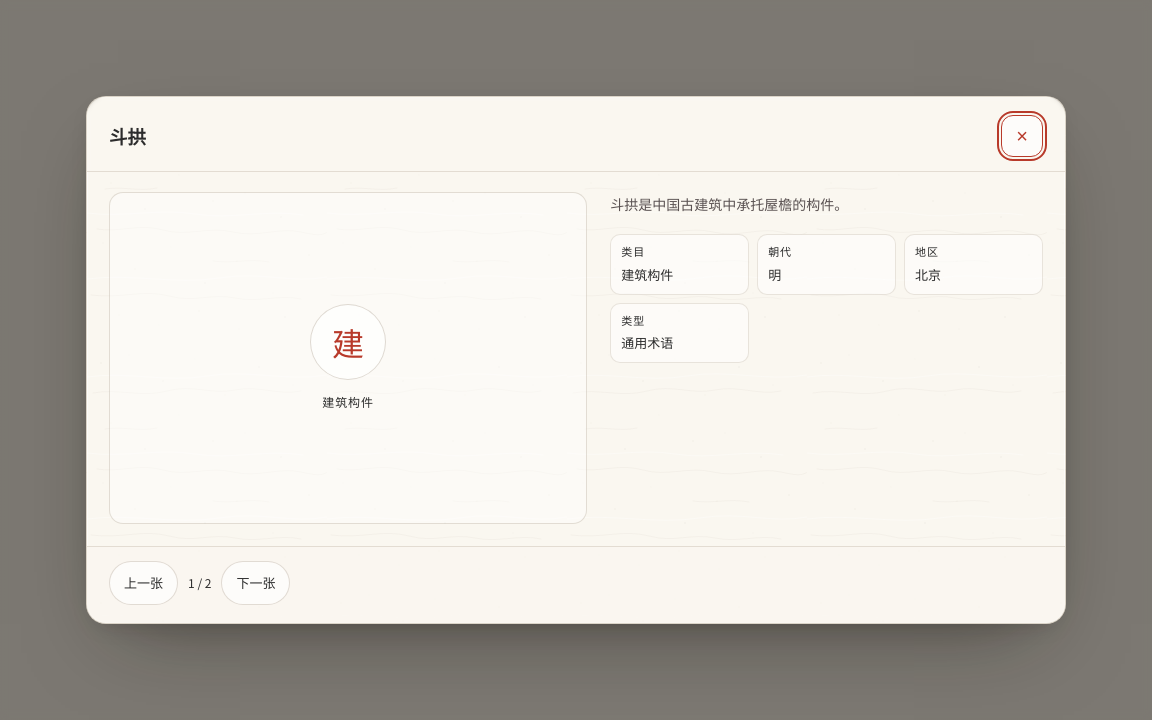
it: CardPreviewOverlay（T-DECK-05/06） › T-DECK-07 触屏左滑切换到下一张
The width and height of the screenshot is (1152, 720).
Press the mouse on the element with class "enc-preview-body": [576, 359] box [87, 172, 1065, 546]
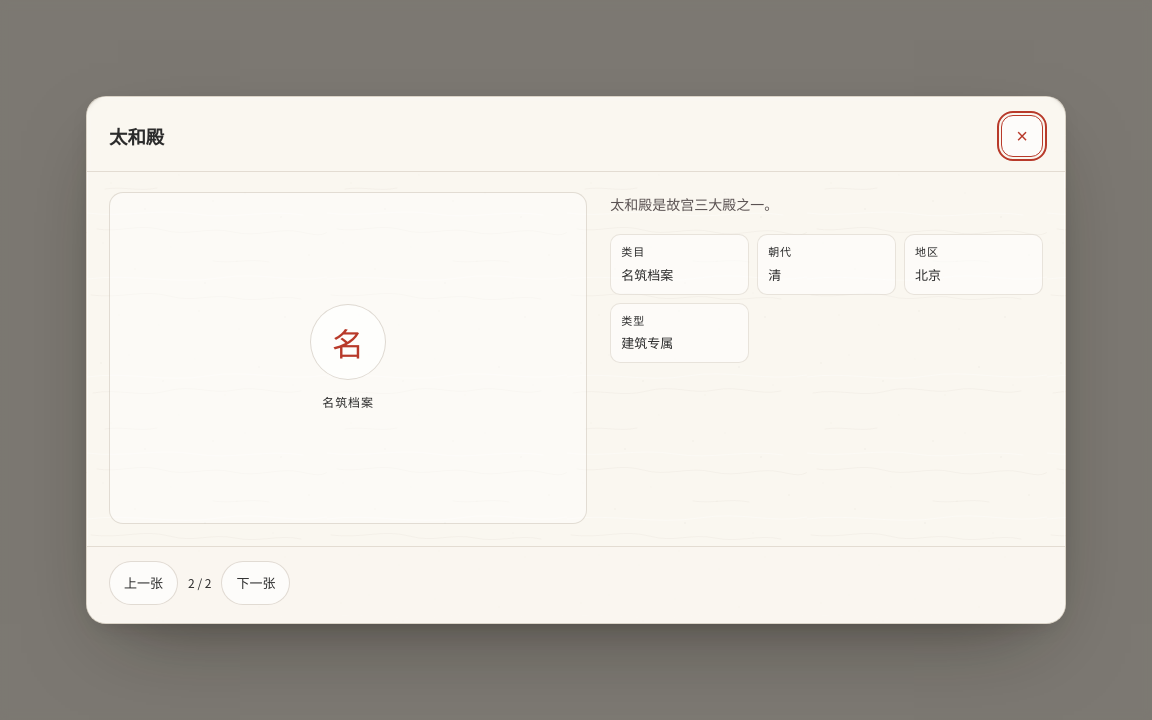
Expected: the heading "太和殿" is shown, [109, 123, 164, 149]
